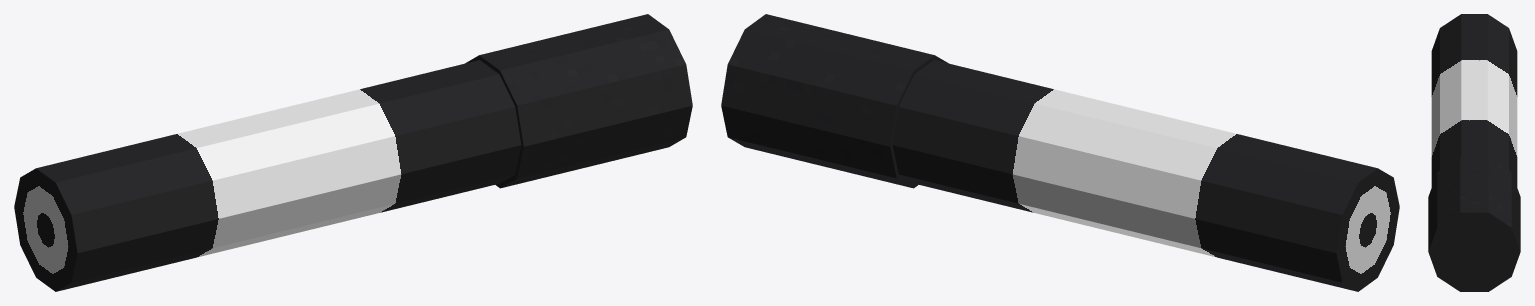
File: permanent_marker.glb
The picture shows the model from 3 angles, left to right: view 1: azimuth 30°, elevation 25°; view 2: azimuth 150°, elevation 25°; view 3: azimuth 270°, elevation 25°; orthographic projection. The views are drawn at different scales.
Visible parts, largest first — view 1: block_body, block_cap; view 2: block_body, block_cap; view 3: block_body, block_cap.
Boxes of the visible parts, box(x1,y1,x2,y2) form: block_body: box(14, 60, 521, 291); block_cap: box(465, 14, 692, 188); block_body: box(892, 60, 1399, 291); block_cap: box(721, 14, 948, 188); block_body: box(1431, 14, 1517, 186); block_cap: box(1428, 157, 1520, 291).
Size of the model in its own units: 0.145 by 0.0266 by 0.028.
1 material, 1 textured.
